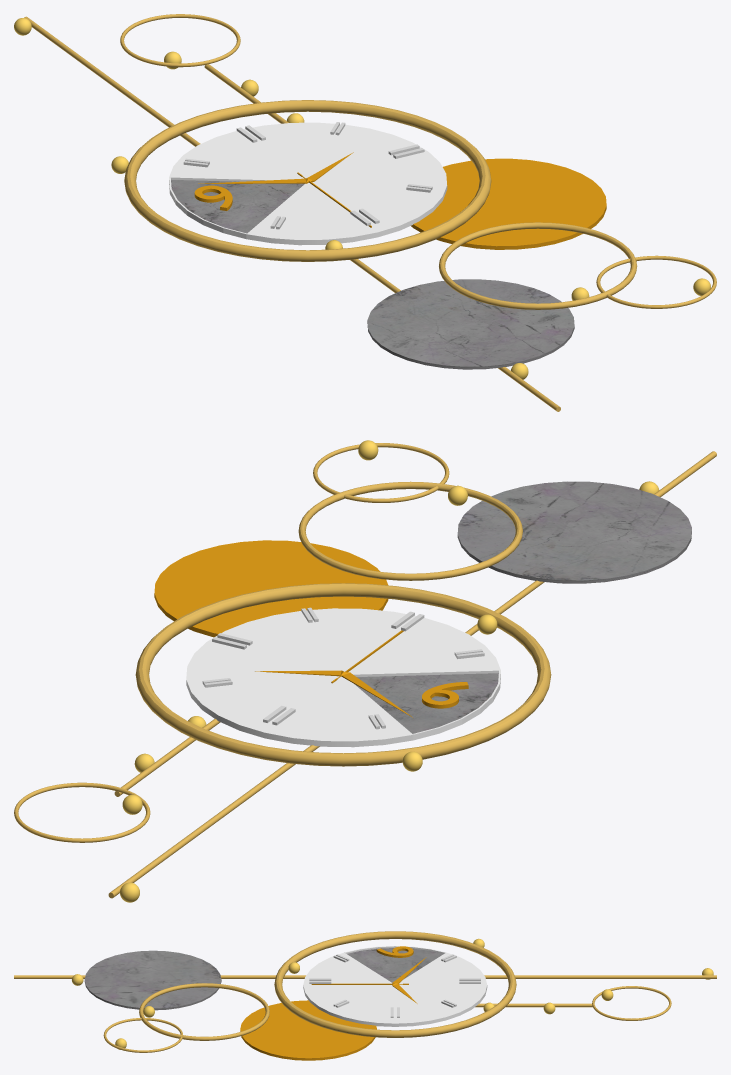
File: clock.glb
3 views of the same model, one above another, from view 1: azimuth 30°, elevation 25°; view 2: azimuth 150°, elevation 25°; view 3: azimuth 270°, elevation 25° (orthographic). The views are drawn at different scales.
Parts seen in each view (by area): view 1: BASE, STROKES.002, CYLINDER 1, CYLINDER 2, SPHERES, NUMBERS, POINTERS.002; view 2: BASE, STROKES.002, CYLINDER 1, CYLINDER 2, SPHERES, NUMBERS, POINTERS.002, NINE; view 3: BASE, STROKES.002, CYLINDER 1, CYLINDER 2, SPHERES, NUMBERS, POINTERS.002, NINE.
Part boxes in pixels (left/top/right/bottom): BASE: left=169, top=122, right=447, bottom=245; STROKES.002: left=24, top=14, right=716, bottom=411; CYLINDER 1: left=367, top=279, right=574, bottom=369; CYLINDER 2: left=411, top=158, right=606, bottom=249; SPHERES: left=14, top=18, right=710, bottom=379; NUMBERS: left=183, top=122, right=432, bottom=229; POINTERS.002: left=198, top=152, right=371, bottom=227; BASE: left=186, top=608, right=500, bottom=747; STROKES.002: left=14, top=443, right=716, bottom=898; CYLINDER 1: left=457, top=481, right=691, bottom=583; CYLINDER 2: left=154, top=540, right=388, bottom=637; SPHERES: left=120, top=440, right=659, bottom=902; NUMBERS: left=202, top=607, right=484, bottom=729; POINTERS.002: left=255, top=630, right=412, bottom=717; NINE: left=422, top=682, right=468, bottom=708; BASE: left=303, top=946, right=487, bottom=1026; STROKES.002: left=14, top=931, right=716, bottom=1052; CYLINDER 1: left=84, top=950, right=221, bottom=1010; CYLINDER 2: left=240, top=1000, right=376, bottom=1060; SPHERES: left=72, top=938, right=713, bottom=1049; NUMBERS: left=309, top=954, right=480, bottom=1017; POINTERS.002: left=311, top=957, right=426, bottom=1003; NINE: left=376, top=946, right=413, bottom=957.
Size of the model in its own units: 0.4139 by 0.0253 by 1.01.
Materials: 6 (1 with a texture image).
